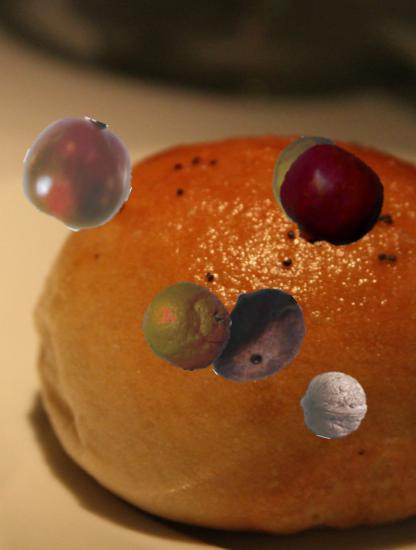Chestnut: (201, 282, 310, 391)
Lemon: (265, 135, 364, 234)
Mandarine: (143, 282, 232, 371)
Pomegranate: (278, 145, 385, 252)
Tomato: (23, 118, 134, 229)
Walnut: (299, 370, 369, 440)
